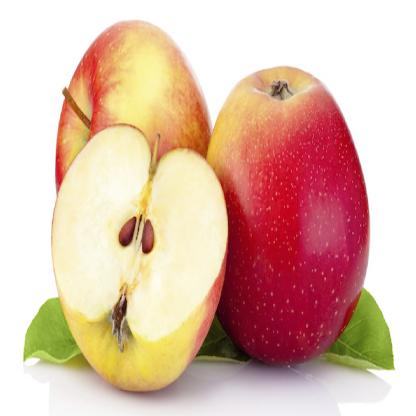apple: (202, 57, 370, 382), (50, 19, 214, 304)
